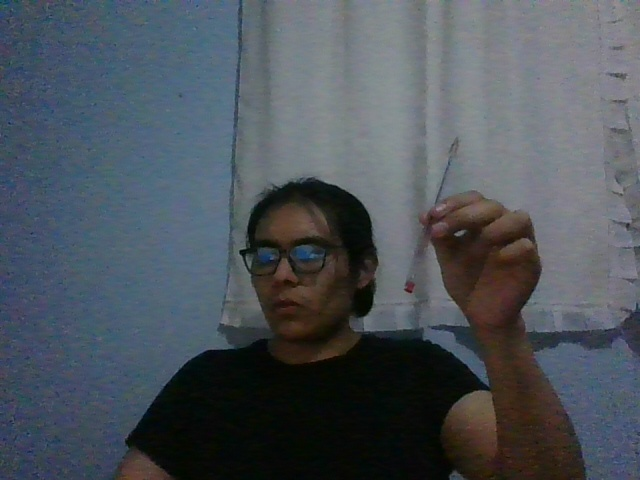pluma: (402, 135, 459, 293)
